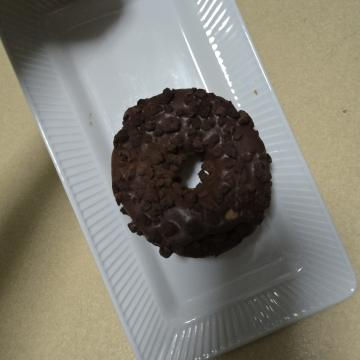doughnut: (76, 84, 270, 254)
